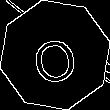O_N: (28, 25, 82, 85)
